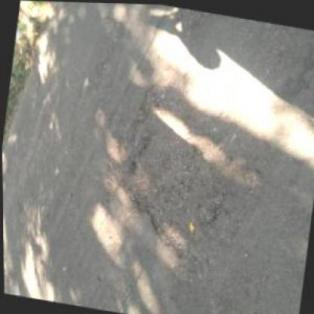Hueco: (108, 76, 249, 267)
